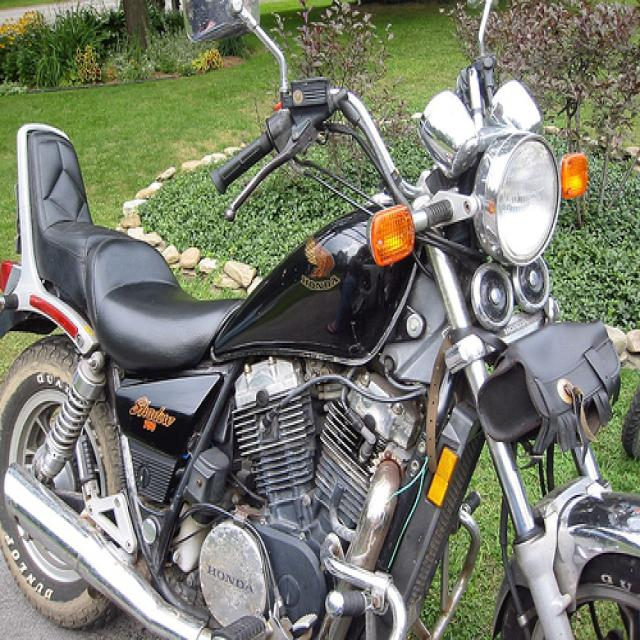motor: (1, 0, 640, 631)
